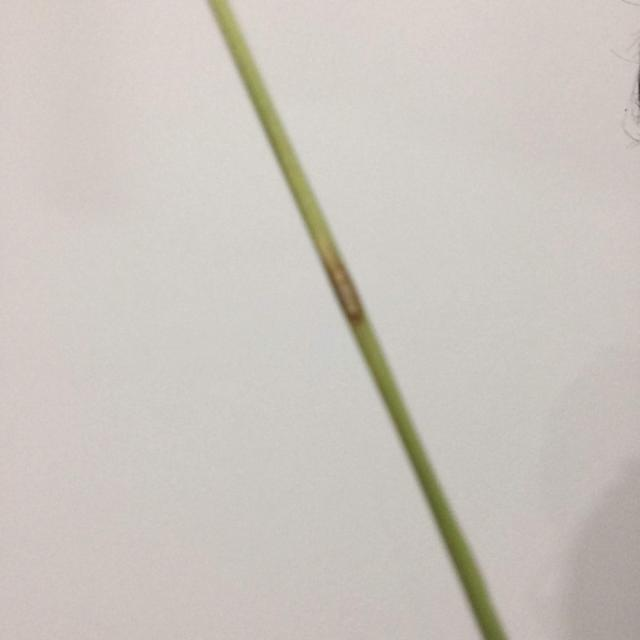Blast: (332, 269, 368, 321)
